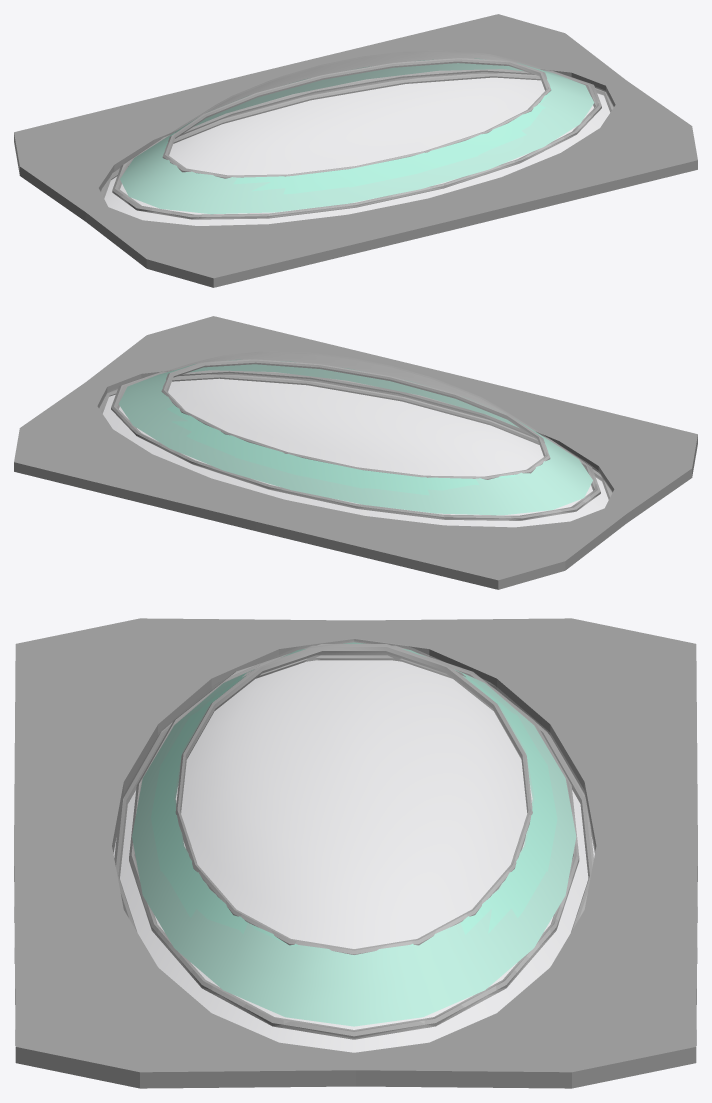
File: Dome.fbx
The picture shows the model from 3 angles, top to bottom: view 1: azimuth 30°, elevation 25°; view 2: azimuth 150°, elevation 25°; view 3: azimuth 270°, elevation 25°; orthographic projection. The views are drawn at different scales.
Visible parts, largest first — view 1: Glass, RoofBase, IntricateDesign, pTorus3, pTorus2, pTorus1; view 2: Glass, RoofBase, IntricateDesign, pTorus3, pTorus2, pTorus1; view 3: RoofBase, Glass, IntricateDesign, pTorus3, pTorus2, pTorus1.
Boxes of the visible parts, box(x1,y1,x2,y2) form: Glass: box(100, 51, 613, 225); RoofBase: box(14, 14, 697, 287); IntricateDesign: box(120, 58, 593, 214); pTorus3: box(112, 69, 601, 219); pTorus2: box(162, 58, 551, 178); pTorus1: box(100, 73, 613, 198); Glass: box(99, 352, 612, 526); RoofBase: box(14, 316, 697, 589); IntricateDesign: box(119, 360, 592, 515); pTorus3: box(111, 370, 600, 520); pTorus2: box(161, 359, 550, 479); pTorus1: box(99, 374, 612, 499); RoofBase: box(14, 618, 697, 1088); Glass: box(113, 638, 595, 1052); IntricateDesign: box(132, 642, 576, 1026); pTorus3: box(129, 645, 579, 1039); pTorus2: box(175, 644, 532, 954); pTorus1: box(114, 655, 593, 931).
Bounding box in the file's own units: 38 × 5.35 × 24.21.
